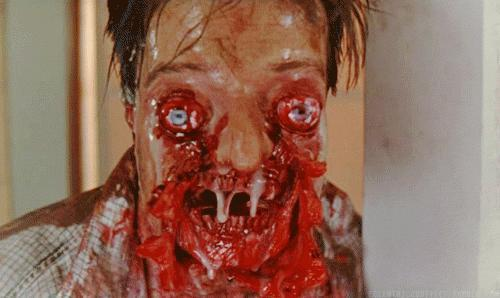Fire: (96, 78, 330, 296), (220, 0, 265, 76)
